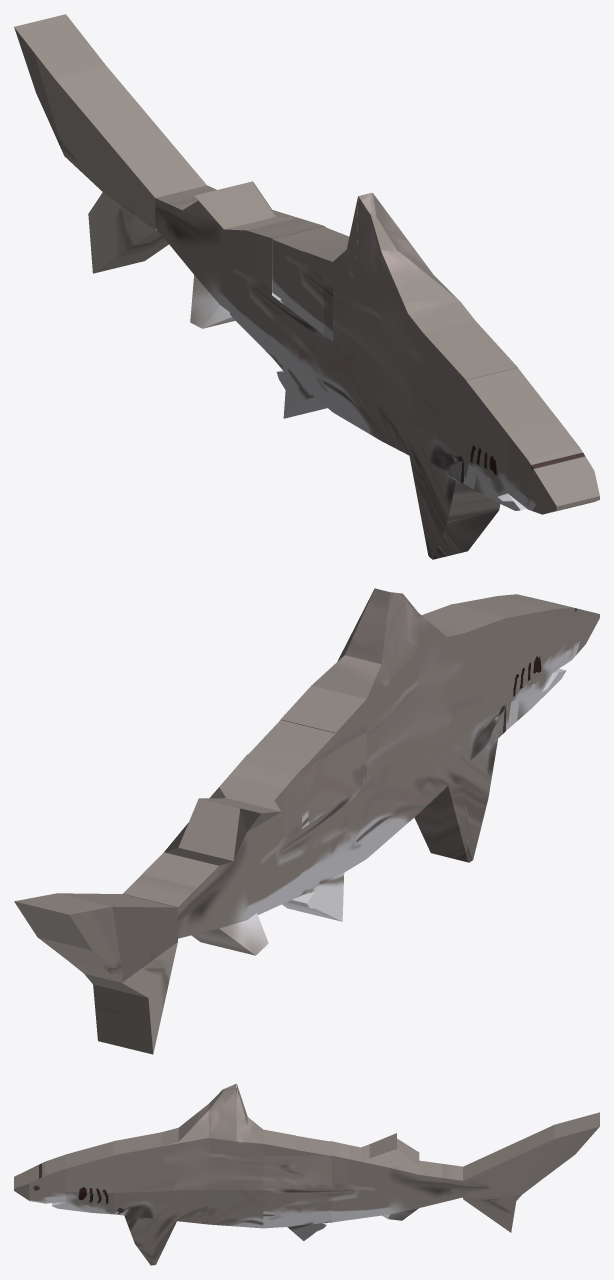
Rendered from blackNoseShark.glb.
3 views of the same model, one above another, from view 1: azimuth 30°, elevation 25°; view 2: azimuth 150°, elevation 25°; view 3: azimuth 270°, elevation 25° (orthographic). The views are drawn at different scales.
Visible parts, largest first — view 1: Plane; view 2: Plane; view 3: Plane.
Boxes of the visible parts, box(x1,y1,x2,y2) form: Plane: box(14, 14, 599, 559); Plane: box(14, 588, 599, 1054); Plane: box(14, 1083, 599, 1265).
Size of the model in its own units: 0.4066 by 1.52 by 4.67.
Materials: 1 (1 with a texture image).
